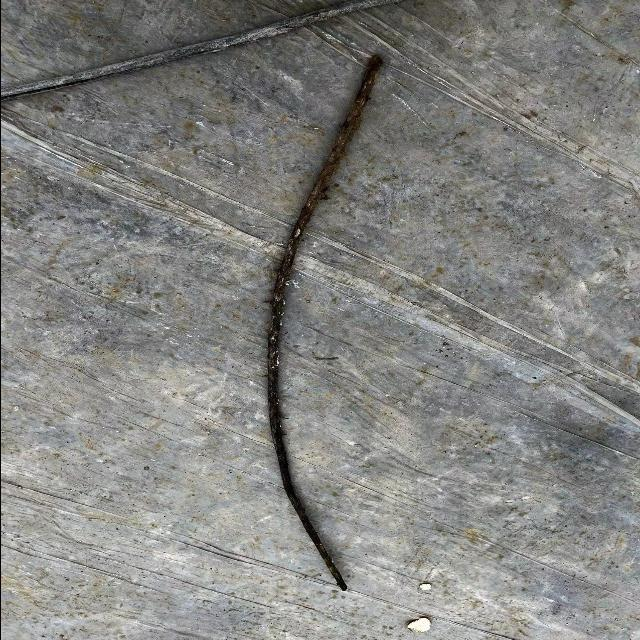branch: (265, 54, 383, 587)
